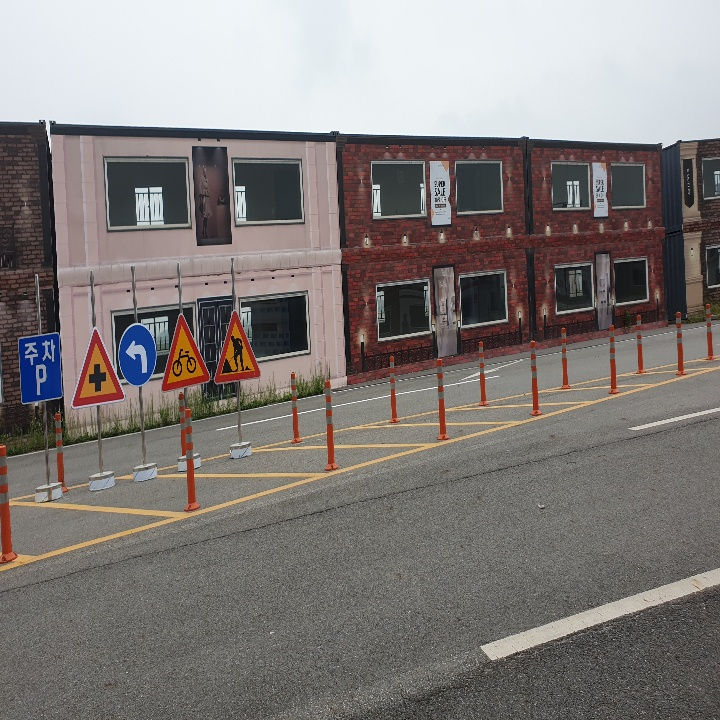bicycle: (162, 309, 209, 392)
const: (218, 331, 253, 374)
inter: (86, 361, 108, 395)
left: (123, 336, 152, 376)
parking: (30, 358, 49, 396)
